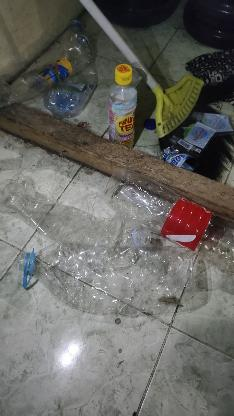Plastic Bottle: (16, 167, 230, 336), (91, 142, 234, 281), (29, 29, 105, 126), (110, 62, 138, 148)
